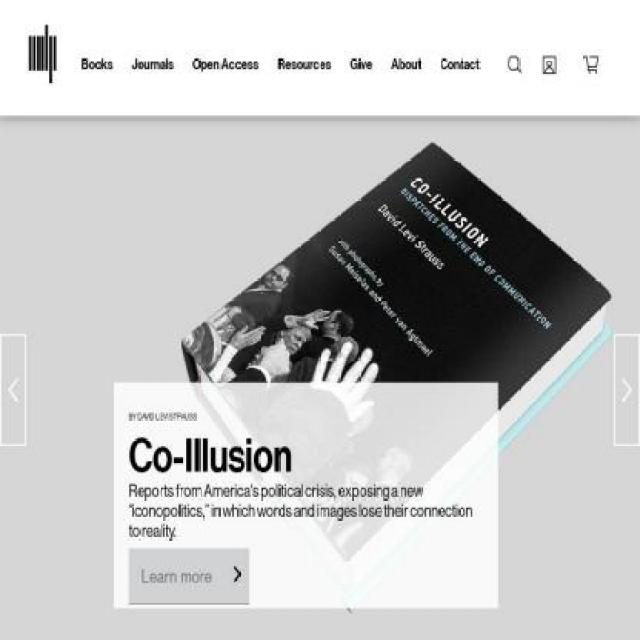button: (128, 548, 250, 604), (0, 334, 26, 446), (614, 335, 640, 447), (29, 25, 56, 83), (192, 55, 258, 74), (278, 55, 332, 74), (132, 55, 174, 74), (528, 55, 570, 74), (570, 55, 612, 74), (440, 55, 480, 74), (81, 55, 113, 74), (391, 55, 422, 74), (351, 55, 372, 74)
